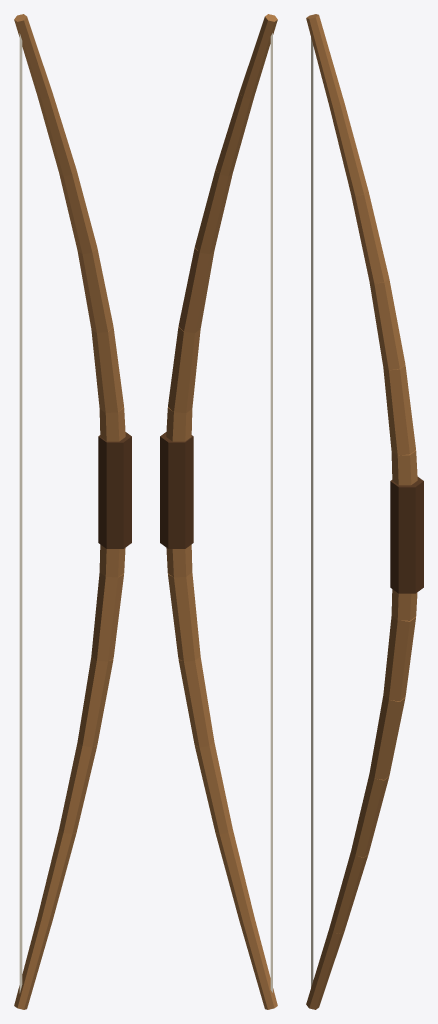
Rendered from SM_Bow.glb.
3 renders of one model, left to right at view 1: azimuth 30°, elevation 25°; view 2: azimuth 150°, elevation 25°; view 3: azimuth 330°, elevation 25°, orthographic.
Visible parts, largest first — view 1: SM_Bow; view 2: SM_Bow; view 3: SM_Bow.
Boxes of the visible parts, x1=… form: SM_Bow: x1=14, y1=14, x2=131, y2=1009; SM_Bow: x1=160, y1=14, x2=277, y2=1009; SM_Bow: x1=306, y1=14, x2=423, y2=1009.
Size of the model in its own units: 0.1539 by 1.3 by 0.04.
Materials: 1 (1 with a texture image).
